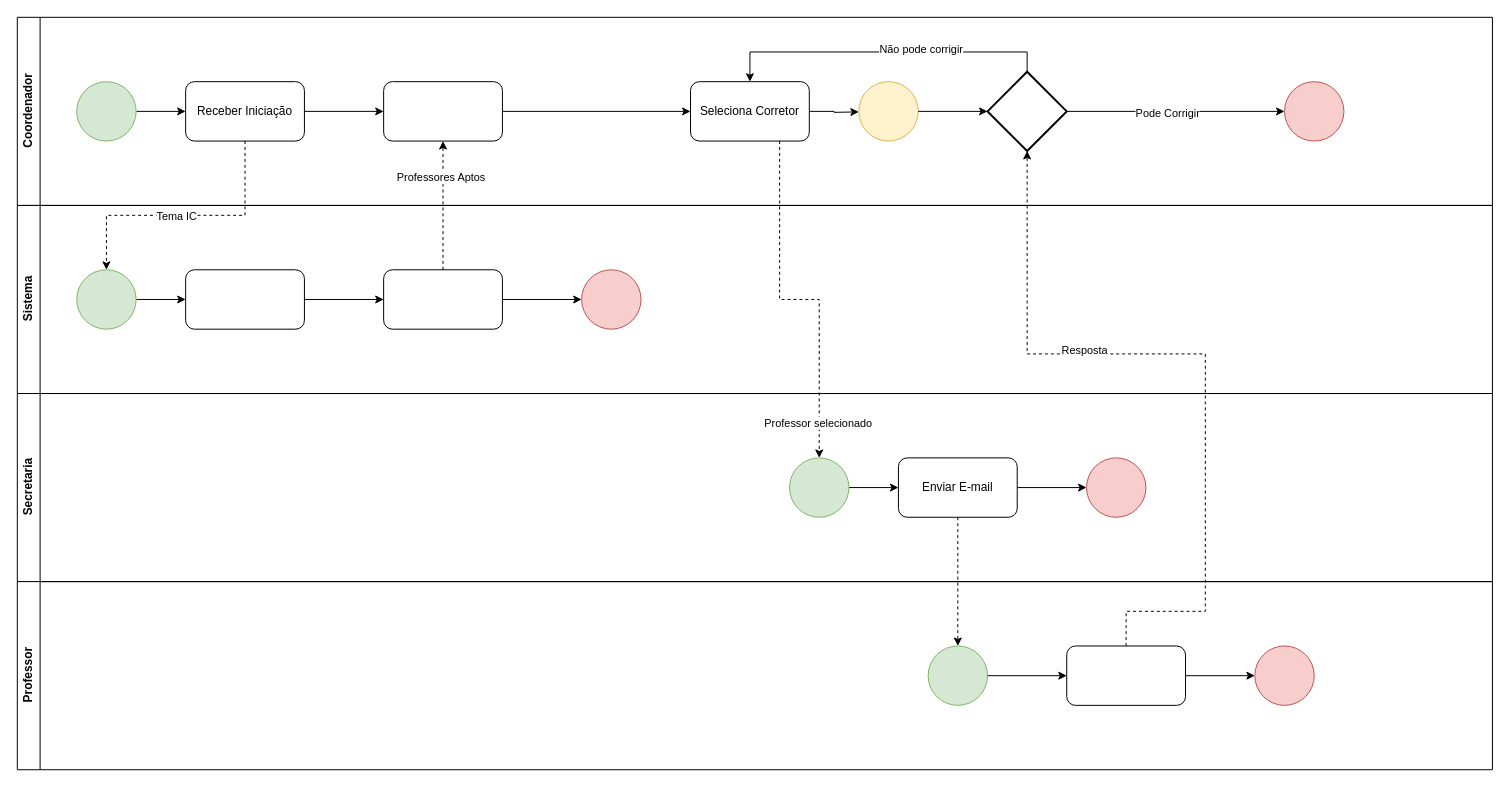
This 1510x787 diagram has some shape labels left out. Each missing label, with the centre of its shape:
Analisar Opções: the point at 442,111
Analisar Tema: the point at 244,299
Busca Professor: the point at 442,299
Envia Resposta: the point at 1126,675
